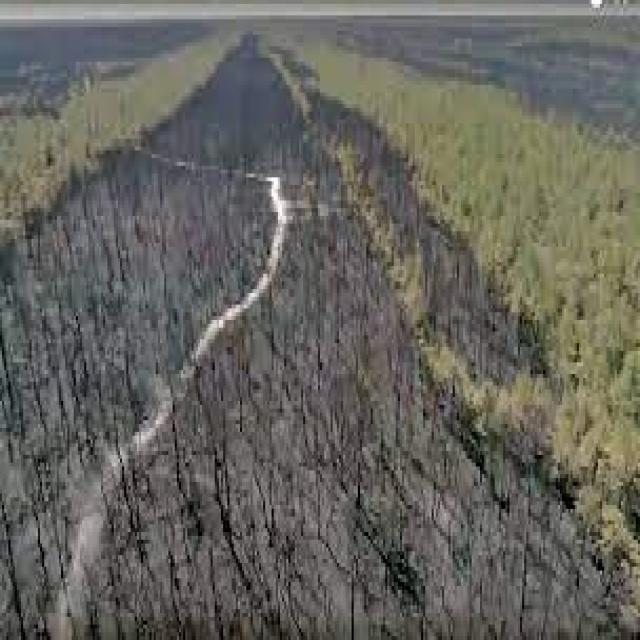Forest Fire: (300, 304, 534, 640)
